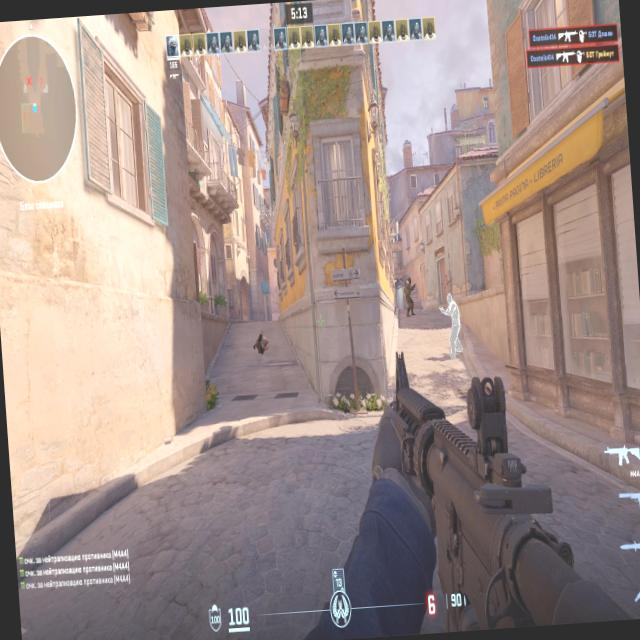CT: (404, 275, 415, 312)
CT_heat: (406, 278, 411, 288)
